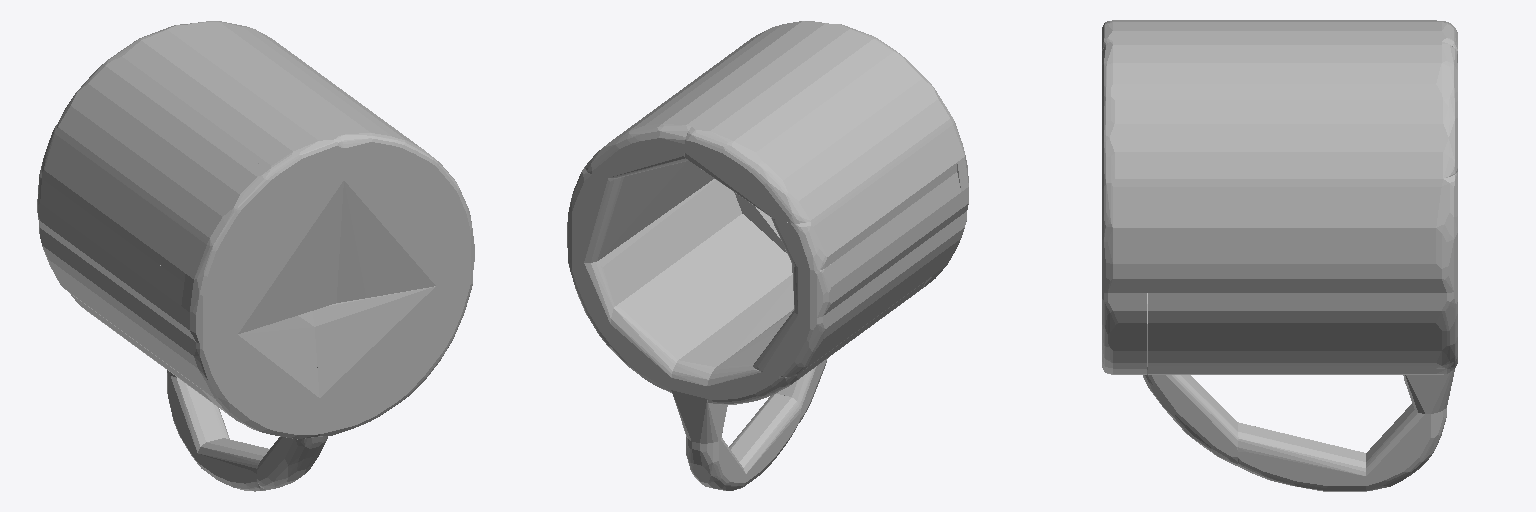
The robot description file, URDF, robot "root":
<robot name="root">
  <link name="link_coacd_convex_piece_0">
    <inertial>
      <origin xyz="0 0 0" rpy="0 0 0"/>
      <inertia ixx="9.45E-03" ixy="3.04E-03" ixz="-2.39E-03" iyy="5.89E-03" iyz="4.68E-03" izz="7.71E-03"/>
    </inertial>
    <visual>
      <origin xyz="0 0 0" rpy="0 0 0"/>
      <geometry>
        <mesh filename="coacd_convex_piece_0.obj" scale="1.0000E+00 1.0000E+00 1.0000E+00"/>
      </geometry>
      <material name="">
        <color rgba="7.50E-01 7.50E-01 7.50E-01 1"/>
      </material>
    </visual>
    <collision>
      <origin xyz="0 0 0" rpy="0 0 0"/>
      <geometry>
        <mesh filename="coacd_convex_piece_0.obj" scale="1.0000E+00 1.0000E+00 1.0000E+00"/>
      </geometry>
    </collision>
  </link>
  <link name="link_coacd_convex_piece_1">
    <inertial>
      <origin xyz="0 0 0" rpy="0 0 0"/>
      <inertia ixx="8.96E-03" ixy="-2.54E-03" ixz="1.95E-03" iyy="5.29E-03" iyz="4.43E-03" izz="7.05E-03"/>
    </inertial>
    <visual>
      <origin xyz="0 0 0" rpy="0 0 0"/>
      <geometry>
        <mesh filename="coacd_convex_piece_1.obj" scale="1.0000E+00 1.0000E+00 1.0000E+00"/>
      </geometry>
      <material name="">
        <color rgba="7.50E-01 7.50E-01 7.50E-01 1"/>
      </material>
    </visual>
    <collision>
      <origin xyz="0 0 0" rpy="0 0 0"/>
      <geometry>
        <mesh filename="coacd_convex_piece_1.obj" scale="1.0000E+00 1.0000E+00 1.0000E+00"/>
      </geometry>
    </collision>
  </link>
  <joint name="link_coacd_convex_piece_1_joint" type="fixed">
    <origin xyz="0 0 0" rpy="0 0 0"/>
    <parent link="link_coacd_convex_piece_0"/>
    <child link="link_coacd_convex_piece_1"/>
  </joint>
  <link name="link_coacd_convex_piece_2">
    <inertial>
      <origin xyz="0 0 0" rpy="0 0 0"/>
      <inertia ixx="3.54E-03" ixy="-2.16E-03" ixz="-1.53E-04" iyy="1.08E-03" iyz="-5.65E-04" izz="5.33E-03"/>
    </inertial>
    <visual>
      <origin xyz="0 0 0" rpy="0 0 0"/>
      <geometry>
        <mesh filename="coacd_convex_piece_2.obj" scale="1.0000E+00 1.0000E+00 1.0000E+00"/>
      </geometry>
      <material name="">
        <color rgba="7.50E-01 7.50E-01 7.50E-01 1"/>
      </material>
    </visual>
    <collision>
      <origin xyz="0 0 0" rpy="0 0 0"/>
      <geometry>
        <mesh filename="coacd_convex_piece_2.obj" scale="1.0000E+00 1.0000E+00 1.0000E+00"/>
      </geometry>
    </collision>
  </link>
  <joint name="link_coacd_convex_piece_2_joint" type="fixed">
    <origin xyz="0 0 0" rpy="0 0 0"/>
    <parent link="link_coacd_convex_piece_1"/>
    <child link="link_coacd_convex_piece_2"/>
  </joint>
  <link name="link_coacd_convex_piece_3">
    <inertial>
      <origin xyz="0 0 0" rpy="0 0 0"/>
      <inertia ixx="2.43E-02" ixy="-6.09E-04" ixz="-7.35E-03" iyy="2.31E-02" iyz="-2.06E-03" izz="7.86E-03"/>
    </inertial>
    <visual>
      <origin xyz="0 0 0" rpy="0 0 0"/>
      <geometry>
        <mesh filename="coacd_convex_piece_3.obj" scale="1.0000E+00 1.0000E+00 1.0000E+00"/>
      </geometry>
      <material name="">
        <color rgba="7.50E-01 7.50E-01 7.50E-01 1"/>
      </material>
    </visual>
    <collision>
      <origin xyz="0 0 0" rpy="0 0 0"/>
      <geometry>
        <mesh filename="coacd_convex_piece_3.obj" scale="1.0000E+00 1.0000E+00 1.0000E+00"/>
      </geometry>
    </collision>
  </link>
  <joint name="link_coacd_convex_piece_3_joint" type="fixed">
    <origin xyz="0 0 0" rpy="0 0 0"/>
    <parent link="link_coacd_convex_piece_2"/>
    <child link="link_coacd_convex_piece_3"/>
  </joint>
  <link name="link_coacd_convex_piece_4">
    <inertial>
      <origin xyz="0 0 0" rpy="0 0 0"/>
      <inertia ixx="9.00E-03" ixy="-1.12E-03" ixz="-7.94E-03" iyy="1.54E-02" iyz="-1.16E-03" izz="1.54E-02"/>
    </inertial>
    <visual>
      <origin xyz="0 0 0" rpy="0 0 0"/>
      <geometry>
        <mesh filename="coacd_convex_piece_4.obj" scale="1.0000E+00 1.0000E+00 1.0000E+00"/>
      </geometry>
      <material name="">
        <color rgba="7.50E-01 7.50E-01 7.50E-01 1"/>
      </material>
    </visual>
    <collision>
      <origin xyz="0 0 0" rpy="0 0 0"/>
      <geometry>
        <mesh filename="coacd_convex_piece_4.obj" scale="1.0000E+00 1.0000E+00 1.0000E+00"/>
      </geometry>
    </collision>
  </link>
  <joint name="link_coacd_convex_piece_4_joint" type="fixed">
    <origin xyz="0 0 0" rpy="0 0 0"/>
    <parent link="link_coacd_convex_piece_3"/>
    <child link="link_coacd_convex_piece_4"/>
  </joint>
  <link name="link_coacd_convex_piece_5">
    <inertial>
      <origin xyz="0 0 0" rpy="0 0 0"/>
      <inertia ixx="3.06E-02" ixy="4.87E-04" ixz="7.89E-03" iyy="2.84E-02" iyz="-1.95E-03" izz="9.33E-03"/>
    </inertial>
    <visual>
      <origin xyz="0 0 0" rpy="0 0 0"/>
      <geometry>
        <mesh filename="coacd_convex_piece_5.obj" scale="1.0000E+00 1.0000E+00 1.0000E+00"/>
      </geometry>
      <material name="">
        <color rgba="7.50E-01 7.50E-01 7.50E-01 1"/>
      </material>
    </visual>
    <collision>
      <origin xyz="0 0 0" rpy="0 0 0"/>
      <geometry>
        <mesh filename="coacd_convex_piece_5.obj" scale="1.0000E+00 1.0000E+00 1.0000E+00"/>
      </geometry>
    </collision>
  </link>
  <joint name="link_coacd_convex_piece_5_joint" type="fixed">
    <origin xyz="0 0 0" rpy="0 0 0"/>
    <parent link="link_coacd_convex_piece_4"/>
    <child link="link_coacd_convex_piece_5"/>
  </joint>
  <link name="link_coacd_convex_piece_6">
    <inertial>
      <origin xyz="0 0 0" rpy="0 0 0"/>
      <inertia ixx="1.84E-03" ixy="9.26E-04" ixz="1.56E-04" iyy="5.37E-03" iyz="-2.48E-04" izz="9.92E-03"/>
    </inertial>
    <visual>
      <origin xyz="0 0 0" rpy="0 0 0"/>
      <geometry>
        <mesh filename="coacd_convex_piece_6.obj" scale="1.0000E+00 1.0000E+00 1.0000E+00"/>
      </geometry>
      <material name="">
        <color rgba="7.50E-01 7.50E-01 7.50E-01 1"/>
      </material>
    </visual>
    <collision>
      <origin xyz="0 0 0" rpy="0 0 0"/>
      <geometry>
        <mesh filename="coacd_convex_piece_6.obj" scale="1.0000E+00 1.0000E+00 1.0000E+00"/>
      </geometry>
    </collision>
  </link>
  <joint name="link_coacd_convex_piece_6_joint" type="fixed">
    <origin xyz="0 0 0" rpy="0 0 0"/>
    <parent link="link_coacd_convex_piece_5"/>
    <child link="link_coacd_convex_piece_6"/>
  </joint>
  <link name="link_coacd_convex_piece_7">
    <inertial>
      <origin xyz="0 0 0" rpy="0 0 0"/>
      <inertia ixx="3.24E-03" ixy="4.61E-04" ixz="-1.56E-03" iyy="2.25E-03" iyz="2.18E-04" izz="5.01E-03"/>
    </inertial>
    <visual>
      <origin xyz="0 0 0" rpy="0 0 0"/>
      <geometry>
        <mesh filename="coacd_convex_piece_7.obj" scale="1.0000E+00 1.0000E+00 1.0000E+00"/>
      </geometry>
      <material name="">
        <color rgba="7.50E-01 7.50E-01 7.50E-01 1"/>
      </material>
    </visual>
    <collision>
      <origin xyz="0 0 0" rpy="0 0 0"/>
      <geometry>
        <mesh filename="coacd_convex_piece_7.obj" scale="1.0000E+00 1.0000E+00 1.0000E+00"/>
      </geometry>
    </collision>
  </link>
  <joint name="link_coacd_convex_piece_7_joint" type="fixed">
    <origin xyz="0 0 0" rpy="0 0 0"/>
    <parent link="link_coacd_convex_piece_6"/>
    <child link="link_coacd_convex_piece_7"/>
  </joint>
  <link name="link_coacd_convex_piece_8">
    <inertial>
      <origin xyz="0 0 0" rpy="0 0 0"/>
      <inertia ixx="5.96E-03" ixy="3.08E-04" ixz="4.73E-03" iyy="8.60E-03" iyz="-4.31E-04" izz="7.12E-03"/>
    </inertial>
    <visual>
      <origin xyz="0 0 0" rpy="0 0 0"/>
      <geometry>
        <mesh filename="coacd_convex_piece_8.obj" scale="1.0000E+00 1.0000E+00 1.0000E+00"/>
      </geometry>
      <material name="">
        <color rgba="7.50E-01 7.50E-01 7.50E-01 1"/>
      </material>
    </visual>
    <collision>
      <origin xyz="0 0 0" rpy="0 0 0"/>
      <geometry>
        <mesh filename="coacd_convex_piece_8.obj" scale="1.0000E+00 1.0000E+00 1.0000E+00"/>
      </geometry>
    </collision>
  </link>
  <joint name="link_coacd_convex_piece_8_joint" type="fixed">
    <origin xyz="0 0 0" rpy="0 0 0"/>
    <parent link="link_coacd_convex_piece_7"/>
    <child link="link_coacd_convex_piece_8"/>
  </joint>
  <link name="link_coacd_convex_piece_9">
    <inertial>
      <origin xyz="0 0 0" rpy="0 0 0"/>
      <inertia ixx="2.59E-03" ixy="3.00E-04" ixz="2.80E-03" iyy="6.09E-03" iyz="-2.93E-04" izz="7.72E-03"/>
    </inertial>
    <visual>
      <origin xyz="0 0 0" rpy="0 0 0"/>
      <geometry>
        <mesh filename="coacd_convex_piece_9.obj" scale="1.0000E+00 1.0000E+00 1.0000E+00"/>
      </geometry>
      <material name="">
        <color rgba="7.50E-01 7.50E-01 7.50E-01 1"/>
      </material>
    </visual>
    <collision>
      <origin xyz="0 0 0" rpy="0 0 0"/>
      <geometry>
        <mesh filename="coacd_convex_piece_9.obj" scale="1.0000E+00 1.0000E+00 1.0000E+00"/>
      </geometry>
    </collision>
  </link>
  <joint name="link_coacd_convex_piece_9_joint" type="fixed">
    <origin xyz="0 0 0" rpy="0 0 0"/>
    <parent link="link_coacd_convex_piece_8"/>
    <child link="link_coacd_convex_piece_9"/>
  </joint>
  <link name="link_coacd_convex_piece_10">
    <inertial>
      <origin xyz="0 0 0" rpy="0 0 0"/>
      <inertia ixx="1.62E-03" ixy="-9.71E-04" ixz="-3.61E-05" iyy="5.20E-03" iyz="-2.05E-04" izz="9.04E-03"/>
    </inertial>
    <visual>
      <origin xyz="0 0 0" rpy="0 0 0"/>
      <geometry>
        <mesh filename="coacd_convex_piece_10.obj" scale="1.0000E+00 1.0000E+00 1.0000E+00"/>
      </geometry>
      <material name="">
        <color rgba="7.50E-01 7.50E-01 7.50E-01 1"/>
      </material>
    </visual>
    <collision>
      <origin xyz="0 0 0" rpy="0 0 0"/>
      <geometry>
        <mesh filename="coacd_convex_piece_10.obj" scale="1.0000E+00 1.0000E+00 1.0000E+00"/>
      </geometry>
    </collision>
  </link>
  <joint name="link_coacd_convex_piece_10_joint" type="fixed">
    <origin xyz="0 0 0" rpy="0 0 0"/>
    <parent link="link_coacd_convex_piece_9"/>
    <child link="link_coacd_convex_piece_10"/>
  </joint>
  <link name="link_coacd_convex_piece_11">
    <inertial>
      <origin xyz="0 0 0" rpy="0 0 0"/>
      <inertia ixx="3.01E-03" ixy="-5.53E-04" ixz="1.46E-03" iyy="2.00E-03" iyz="2.40E-04" izz="5.04E-03"/>
    </inertial>
    <visual>
      <origin xyz="0 0 0" rpy="0 0 0"/>
      <geometry>
        <mesh filename="coacd_convex_piece_11.obj" scale="1.0000E+00 1.0000E+00 1.0000E+00"/>
      </geometry>
      <material name="">
        <color rgba="7.50E-01 7.50E-01 7.50E-01 1"/>
      </material>
    </visual>
    <collision>
      <origin xyz="0 0 0" rpy="0 0 0"/>
      <geometry>
        <mesh filename="coacd_convex_piece_11.obj" scale="1.0000E+00 1.0000E+00 1.0000E+00"/>
      </geometry>
    </collision>
  </link>
  <joint name="link_coacd_convex_piece_11_joint" type="fixed">
    <origin xyz="0 0 0" rpy="0 0 0"/>
    <parent link="link_coacd_convex_piece_10"/>
    <child link="link_coacd_convex_piece_11"/>
  </joint>
  <link name="link_coacd_convex_piece_12">
    <inertial>
      <origin xyz="0 0 0" rpy="0 0 0"/>
      <inertia ixx="1.31E-03" ixy="9.86E-04" ixz="1.07E-04" iyy="6.23E-04" iyz="-3.07E-04" izz="2.22E-03"/>
    </inertial>
    <visual>
      <origin xyz="0 0 0" rpy="0 0 0"/>
      <geometry>
        <mesh filename="coacd_convex_piece_12.obj" scale="1.0000E+00 1.0000E+00 1.0000E+00"/>
      </geometry>
      <material name="">
        <color rgba="7.50E-01 7.50E-01 7.50E-01 1"/>
      </material>
    </visual>
    <collision>
      <origin xyz="0 0 0" rpy="0 0 0"/>
      <geometry>
        <mesh filename="coacd_convex_piece_12.obj" scale="1.0000E+00 1.0000E+00 1.0000E+00"/>
      </geometry>
    </collision>
  </link>
  <joint name="link_coacd_convex_piece_12_joint" type="fixed">
    <origin xyz="0 0 0" rpy="0 0 0"/>
    <parent link="link_coacd_convex_piece_11"/>
    <child link="link_coacd_convex_piece_12"/>
  </joint>
  <link name="link_coacd_convex_piece_13">
    <inertial>
      <origin xyz="0 0 0" rpy="0 0 0"/>
      <inertia ixx="3.62E-03" ixy="1.43E-03" ixz="1.06E-04" iyy="6.02E-04" iyz="-6.98E-04" izz="4.77E-03"/>
    </inertial>
    <visual>
      <origin xyz="0 0 0" rpy="0 0 0"/>
      <geometry>
        <mesh filename="coacd_convex_piece_13.obj" scale="1.0000E+00 1.0000E+00 1.0000E+00"/>
      </geometry>
      <material name="">
        <color rgba="7.50E-01 7.50E-01 7.50E-01 1"/>
      </material>
    </visual>
    <collision>
      <origin xyz="0 0 0" rpy="0 0 0"/>
      <geometry>
        <mesh filename="coacd_convex_piece_13.obj" scale="1.0000E+00 1.0000E+00 1.0000E+00"/>
      </geometry>
    </collision>
  </link>
  <joint name="link_coacd_convex_piece_13_joint" type="fixed">
    <origin xyz="0 0 0" rpy="0 0 0"/>
    <parent link="link_coacd_convex_piece_12"/>
    <child link="link_coacd_convex_piece_13"/>
  </joint>
  <link name="link_coacd_convex_piece_14">
    <inertial>
      <origin xyz="0 0 0" rpy="0 0 0"/>
      <inertia ixx="1.41E-03" ixy="-7.77E-08" ixz="-1.97E-07" iyy="1.03E-03" iyz="-6.51E-04" izz="3.84E-04"/>
    </inertial>
    <visual>
      <origin xyz="0 0 0" rpy="0 0 0"/>
      <geometry>
        <mesh filename="coacd_convex_piece_14.obj" scale="1.0000E+00 1.0000E+00 1.0000E+00"/>
      </geometry>
      <material name="">
        <color rgba="7.50E-01 7.50E-01 7.50E-01 1"/>
      </material>
    </visual>
    <collision>
      <origin xyz="0 0 0" rpy="0 0 0"/>
      <geometry>
        <mesh filename="coacd_convex_piece_14.obj" scale="1.0000E+00 1.0000E+00 1.0000E+00"/>
      </geometry>
    </collision>
  </link>
  <joint name="link_coacd_convex_piece_14_joint" type="fixed">
    <origin xyz="0 0 0" rpy="0 0 0"/>
    <parent link="link_coacd_convex_piece_13"/>
    <child link="link_coacd_convex_piece_14"/>
  </joint>
  <link name="link_coacd_convex_piece_15">
    <inertial>
      <origin xyz="0 0 0" rpy="0 0 0"/>
      <inertia ixx="1.62E-03" ixy="-1.73E-05" ixz="1.08E-05" iyy="4.08E-04" iyz="8.10E-04" izz="1.23E-03"/>
    </inertial>
    <visual>
      <origin xyz="0 0 0" rpy="0 0 0"/>
      <geometry>
        <mesh filename="coacd_convex_piece_15.obj" scale="1.0000E+00 1.0000E+00 1.0000E+00"/>
      </geometry>
      <material name="">
        <color rgba="7.50E-01 7.50E-01 7.50E-01 1"/>
      </material>
    </visual>
    <collision>
      <origin xyz="0 0 0" rpy="0 0 0"/>
      <geometry>
        <mesh filename="coacd_convex_piece_15.obj" scale="1.0000E+00 1.0000E+00 1.0000E+00"/>
      </geometry>
    </collision>
  </link>
  <joint name="link_coacd_convex_piece_15_joint" type="fixed">
    <origin xyz="0 0 0" rpy="0 0 0"/>
    <parent link="link_coacd_convex_piece_14"/>
    <child link="link_coacd_convex_piece_15"/>
  </joint>
  <link name="link_coacd_convex_piece_16">
    <inertial>
      <origin xyz="0 0 0" rpy="0 0 0"/>
      <inertia ixx="1.50E-03" ixy="6.49E-06" ixz="3.46E-05" iyy="5.21E-04" iyz="-3.15E-04" izz="1.05E-03"/>
    </inertial>
    <visual>
      <origin xyz="0 0 0" rpy="0 0 0"/>
      <geometry>
        <mesh filename="coacd_convex_piece_16.obj" scale="1.0000E+00 1.0000E+00 1.0000E+00"/>
      </geometry>
      <material name="">
        <color rgba="7.50E-01 7.50E-01 7.50E-01 1"/>
      </material>
    </visual>
    <collision>
      <origin xyz="0 0 0" rpy="0 0 0"/>
      <geometry>
        <mesh filename="coacd_convex_piece_16.obj" scale="1.0000E+00 1.0000E+00 1.0000E+00"/>
      </geometry>
    </collision>
  </link>
  <joint name="link_coacd_convex_piece_16_joint" type="fixed">
    <origin xyz="0 0 0" rpy="0 0 0"/>
    <parent link="link_coacd_convex_piece_15"/>
    <child link="link_coacd_convex_piece_16"/>
  </joint>
  <link name="link_coacd_convex_piece_17">
    <inertial>
      <origin xyz="0 0 0" rpy="0 0 0"/>
      <inertia ixx="2.16E-03" ixy="6.00E-09" ixz="-2.53E-08" iyy="1.51E-03" iyz="9.91E-04" izz="6.60E-04"/>
    </inertial>
    <visual>
      <origin xyz="0 0 0" rpy="0 0 0"/>
      <geometry>
        <mesh filename="coacd_convex_piece_17.obj" scale="1.0000E+00 1.0000E+00 1.0000E+00"/>
      </geometry>
      <material name="">
        <color rgba="7.50E-01 7.50E-01 7.50E-01 1"/>
      </material>
    </visual>
    <collision>
      <origin xyz="0 0 0" rpy="0 0 0"/>
      <geometry>
        <mesh filename="coacd_convex_piece_17.obj" scale="1.0000E+00 1.0000E+00 1.0000E+00"/>
      </geometry>
    </collision>
  </link>
  <joint name="link_coacd_convex_piece_17_joint" type="fixed">
    <origin xyz="0 0 0" rpy="0 0 0"/>
    <parent link="link_coacd_convex_piece_16"/>
    <child link="link_coacd_convex_piece_17"/>
  </joint>
  <link name="link_coacd_convex_piece_18">
    <inertial>
      <origin xyz="0 0 0" rpy="0 0 0"/>
      <inertia ixx="2.47E-03" ixy="-3.98E-08" ixz="6.15E-07" iyy="2.39E-03" iyz="2.17E-04" izz="9.17E-05"/>
    </inertial>
    <visual>
      <origin xyz="0 0 0" rpy="0 0 0"/>
      <geometry>
        <mesh filename="coacd_convex_piece_18.obj" scale="1.0000E+00 1.0000E+00 1.0000E+00"/>
      </geometry>
      <material name="">
        <color rgba="7.50E-01 7.50E-01 7.50E-01 1"/>
      </material>
    </visual>
    <collision>
      <origin xyz="0 0 0" rpy="0 0 0"/>
      <geometry>
        <mesh filename="coacd_convex_piece_18.obj" scale="1.0000E+00 1.0000E+00 1.0000E+00"/>
      </geometry>
    </collision>
  </link>
  <joint name="link_coacd_convex_piece_18_joint" type="fixed">
    <origin xyz="0 0 0" rpy="0 0 0"/>
    <parent link="link_coacd_convex_piece_17"/>
    <child link="link_coacd_convex_piece_18"/>
  </joint>
</robot>

--- What the picture shows (computed from the rendered views, not written in the file) ---
The picture shows the robot from 3 angles, left to right: view 1: azimuth 30°, elevation 25°; view 2: azimuth 150°, elevation 25°; view 3: azimuth 270°, elevation 25°; orthographic projection.
Robot: root — 19 links, 18 joints (18 fixed); root link link_coacd_convex_piece_0; default pose: every joint at zero.
Links seen in each view (by area): view 1: link_coacd_convex_piece_5, link_coacd_convex_piece_1, link_coacd_convex_piece_0, link_coacd_convex_piece_13, link_coacd_convex_piece_2, link_coacd_convex_piece_8, link_coacd_convex_piece_9, link_coacd_convex_piece_3, link_coacd_convex_piece_6, link_coacd_convex_piece_17, link_coacd_convex_piece_18, link_coacd_convex_piece_14 (+1 smaller); view 2: link_coacd_convex_piece_5, link_coacd_convex_piece_11, link_coacd_convex_piece_3, link_coacd_convex_piece_8, link_coacd_convex_piece_10, link_coacd_convex_piece_4, link_coacd_convex_piece_6, link_coacd_convex_piece_9, link_coacd_convex_piece_7, link_coacd_convex_piece_15, link_coacd_convex_piece_18, link_coacd_convex_piece_16 (+5 smaller); view 3: link_coacd_convex_piece_3, link_coacd_convex_piece_4, link_coacd_convex_piece_10, link_coacd_convex_piece_0, link_coacd_convex_piece_5, link_coacd_convex_piece_18, link_coacd_convex_piece_14, link_coacd_convex_piece_17, link_coacd_convex_piece_12, link_coacd_convex_piece_11, link_coacd_convex_piece_13, link_coacd_convex_piece_15 (+1 smaller).
Boxes of the visible links, left/top/right/bottom form: link_coacd_convex_piece_5: left=57, top=24, right=329, bottom=231; link_coacd_convex_piece_1: left=181, top=130, right=343, bottom=342; link_coacd_convex_piece_0: left=328, top=124, right=474, bottom=302; link_coacd_convex_piece_13: left=313, top=277, right=472, bottom=436; link_coacd_convex_piece_2: left=180, top=311, right=319, bottom=439; link_coacd_convex_piece_8: left=40, top=124, right=200, bottom=281; link_coacd_convex_piece_9: left=37, top=174, right=184, bottom=333; link_coacd_convex_piece_3: left=184, top=21, right=409, bottom=139; link_coacd_convex_piece_6: left=39, top=227, right=200, bottom=388; link_coacd_convex_piece_17: left=167, top=373, right=229, bottom=464; link_coacd_convex_piece_18: left=198, top=438, right=269, bottom=491; link_coacd_convex_piece_14: left=257, top=436, right=327, bottom=489; link_coacd_convex_piece_5: left=685, top=30, right=942, bottom=223; link_coacd_convex_piece_11: left=610, top=214, right=792, bottom=392; link_coacd_convex_piece_3: left=585, top=29, right=819, bottom=177; link_coacd_convex_piece_8: left=771, top=125, right=956, bottom=271; link_coacd_convex_piece_10: left=568, top=179, right=741, bottom=349; link_coacd_convex_piece_4: left=567, top=161, right=714, bottom=262; link_coacd_convex_piece_6: left=753, top=222, right=951, bottom=376; link_coacd_convex_piece_9: left=792, top=172, right=960, bottom=317; link_coacd_convex_piece_7: left=707, top=281, right=925, bottom=404; link_coacd_convex_piece_15: left=671, top=348, right=729, bottom=443; link_coacd_convex_piece_18: left=729, top=394, right=800, bottom=486; link_coacd_convex_piece_16: left=696, top=274, right=793, bottom=356; link_coacd_convex_piece_3: left=1138, top=41, right=1457, bottom=178; link_coacd_convex_piece_4: left=1138, top=172, right=1457, bottom=292; link_coacd_convex_piece_10: left=1148, top=289, right=1457, bottom=368; link_coacd_convex_piece_0: left=1102, top=41, right=1137, bottom=292; link_coacd_convex_piece_5: left=1131, top=20, right=1457, bottom=53; link_coacd_convex_piece_18: left=1238, top=422, right=1365, bottom=491; link_coacd_convex_piece_14: left=1143, top=370, right=1237, bottom=465; link_coacd_convex_piece_17: left=1366, top=403, right=1446, bottom=491; link_coacd_convex_piece_12: left=1124, top=293, right=1146, bottom=374; link_coacd_convex_piece_11: left=1148, top=357, right=1457, bottom=374; link_coacd_convex_piece_13: left=1102, top=291, right=1123, bottom=374; link_coacd_convex_piece_15: left=1403, top=367, right=1455, bottom=413.
Size in the robot's own frame: 1.16 by 1.16 by 1.62 metres.
Meshes: 19 distinct files referenced, 19 mesh visuals loaded (19 OBJ).
